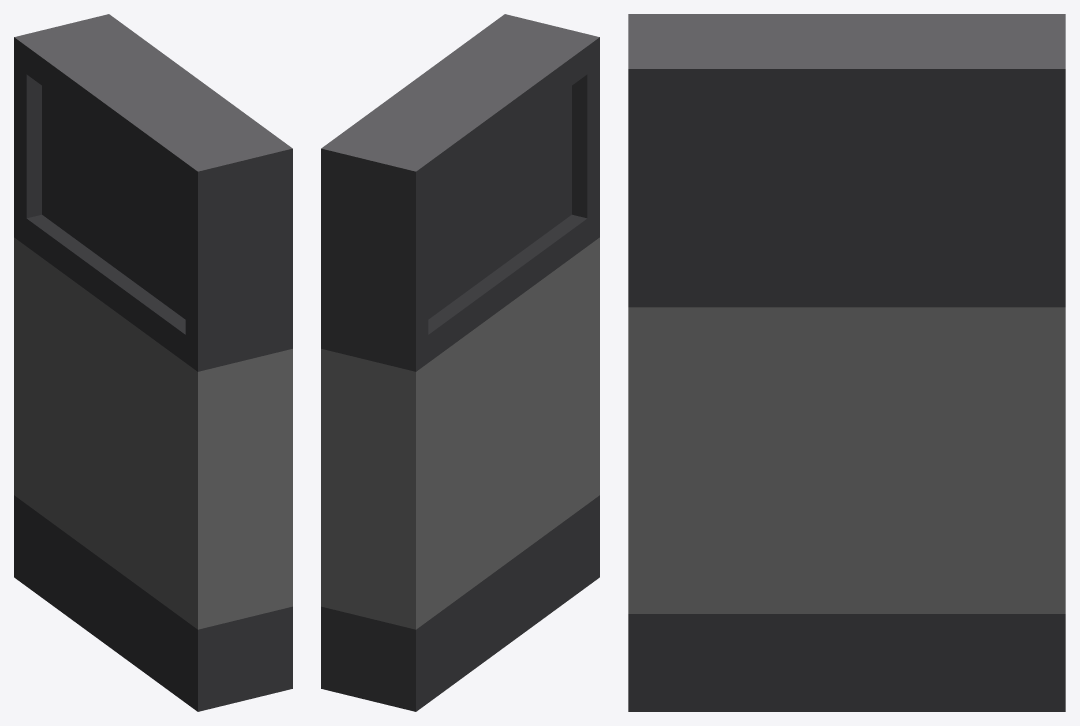
File: tingchepai_01.FBX
The picture shows the model from 3 angles, left to right: view 1: azimuth 30°, elevation 25°; view 2: azimuth 150°, elevation 25°; view 3: azimuth 270°, elevation 25°; orthographic projection. The views are drawn at different scales.
Visible parts, largest first — view 1: tingchepai_01; view 2: tingchepai_01; view 3: tingchepai_01.
Part boxes in pixels (x1,y1,x2,y2): tingchepai_01: [14, 14, 292, 711]; tingchepai_01: [321, 14, 599, 711]; tingchepai_01: [628, 14, 1065, 711].
Size of the model in its own units: 39.42 by 209 by 129.
